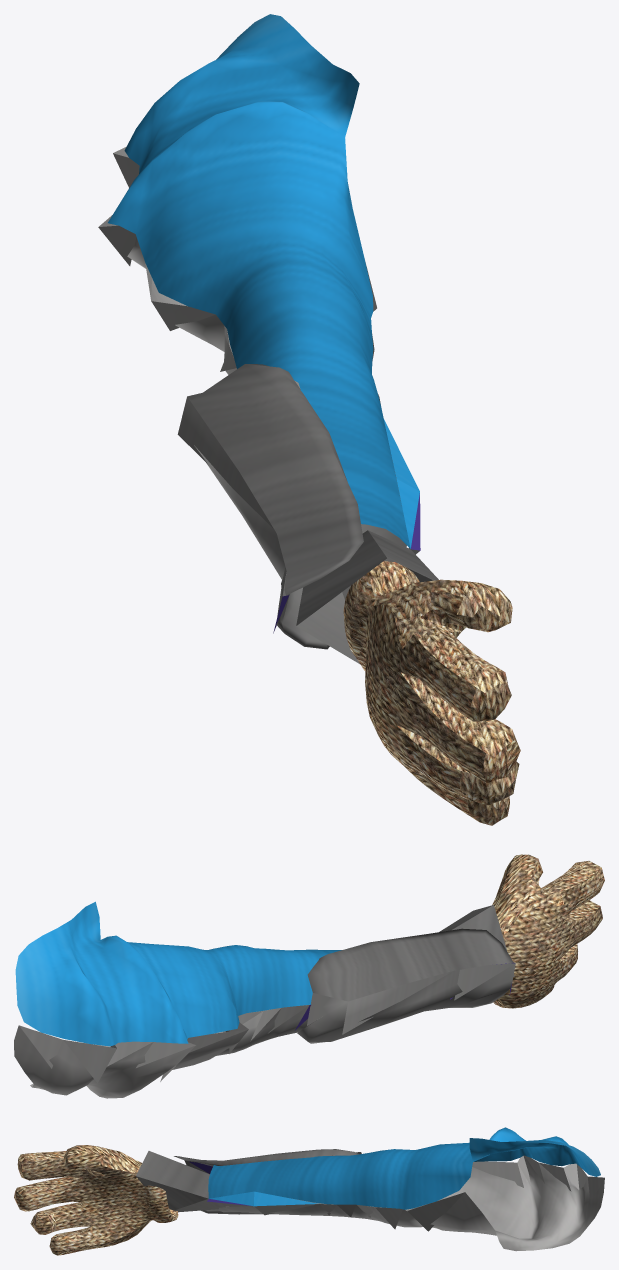
File: arm.FBX
The picture shows the model from 3 angles, top to bottom: view 1: azimuth 30°, elevation 25°; view 2: azimuth 150°, elevation 25°; view 3: azimuth 270°, elevation 25°; orthographic projection. The views are drawn at different scales.
Visible parts, largest first — view 1: Object001, Box05; view 2: Object001, Box05; view 3: Object001, Box05.
Part boxes in pixels (<box>): Object001: <box>98,14,438,663</box>; Box05: <box>343,561,520,825</box>; Object001: <box>14,901,515,1098</box>; Box05: <box>492,854,604,1008</box>; Object001: <box>136,1127,604,1251</box>; Box05: <box>14,1145,178,1255</box>.
Bounding box in the file's own units: 162 × 152 × 439.
